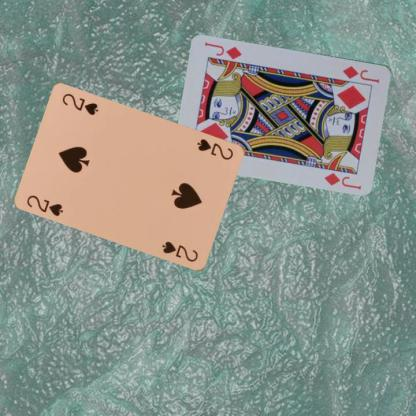2s: (24, 192, 65, 218), (194, 136, 235, 161)
Jd: (340, 63, 382, 84)
